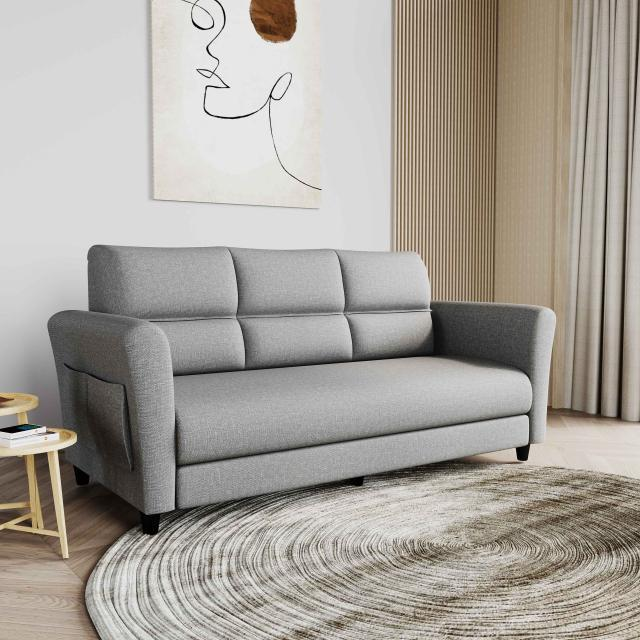sofa: (46, 244, 558, 536)
